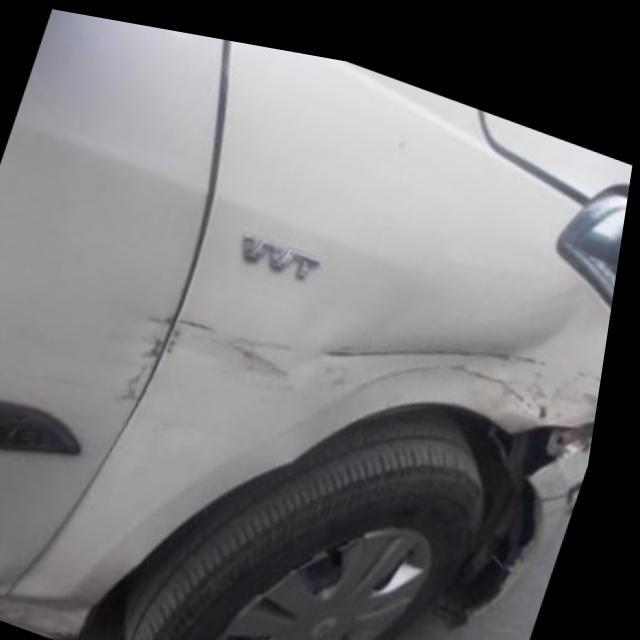dent: (330, 324, 557, 390), (0, 589, 106, 636)
dislocated part: (509, 394, 604, 498)
rub: (126, 300, 232, 399)
scratch: (238, 321, 311, 379)
